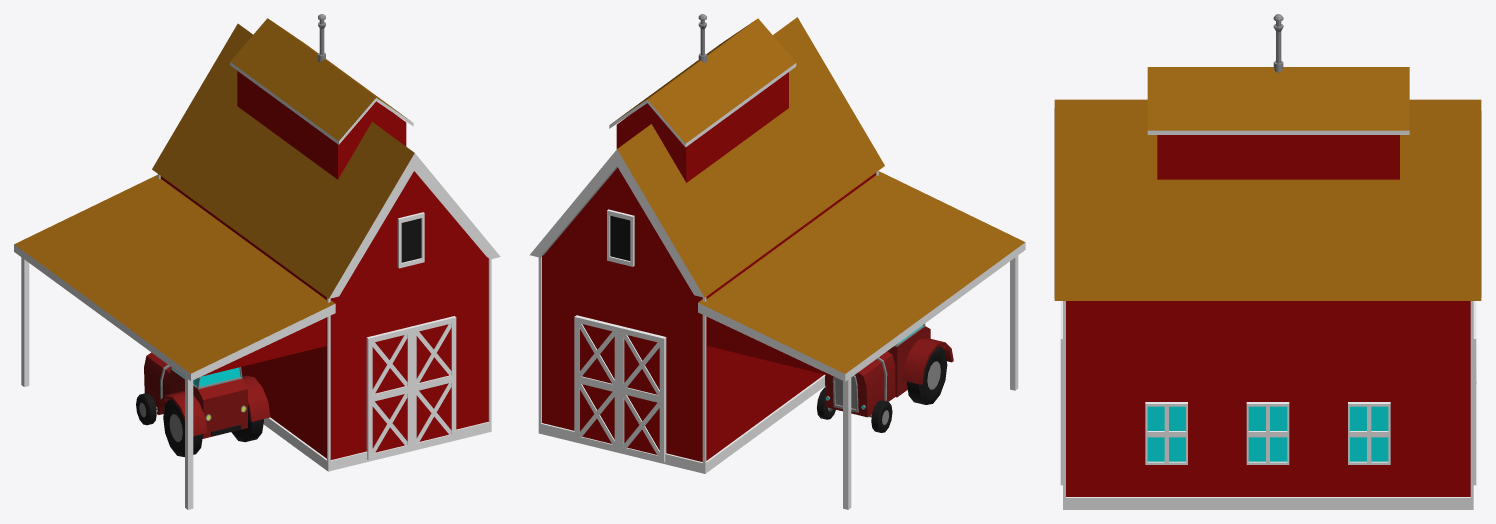
The model's file is nha_1.fbx.
3 views of the same model, side by side, from view 1: azimuth 30°, elevation 25°; view 2: azimuth 150°, elevation 25°; view 3: azimuth 270°, elevation 25° (orthographic). The views are drawn at different scales.
Visible parts, largest first — view 1: nha_2; view 2: nha_2; view 3: nha_2.
Part boxes in pixels (left/top/right/bottom): nha_2: left=14, top=14, right=500, bottom=509; nha_2: left=530, top=14, right=1025, bottom=509; nha_2: left=1054, top=14, right=1481, bottom=509.
Bounding box in the file's own units: 25.43 × 29.57 × 25.17.
